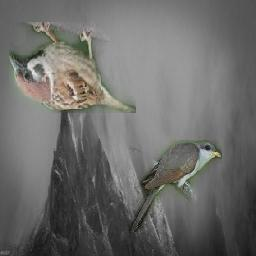Cuckoo: (130, 140, 223, 232)
Sparrow: (10, 23, 137, 114)
